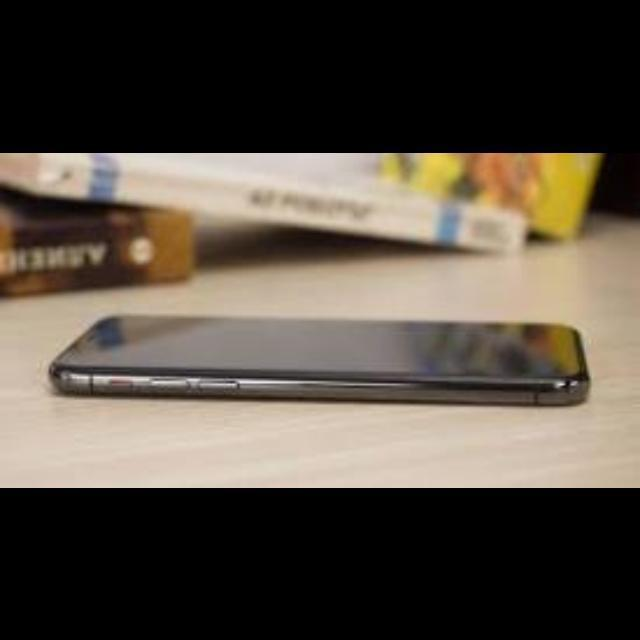phone: (54, 267, 622, 448)
